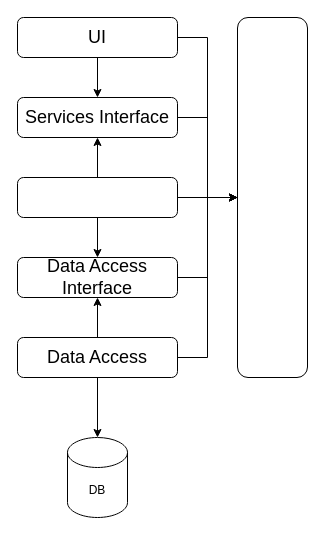
Image size: 325x535. Some labels were removed from this diagram. The box of each missing label's shape, as (x1, y1, x2, y2) in pixels:
Domain Model: (236, 16, 308, 378)
Services: (16, 176, 178, 218)
